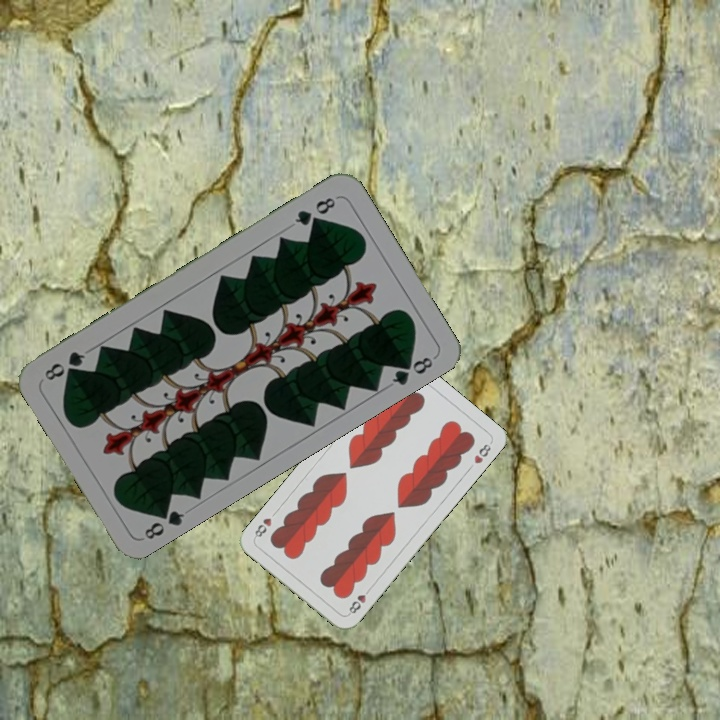G8: (140, 501, 187, 542), (290, 193, 338, 229)
H8: (344, 583, 374, 617)
